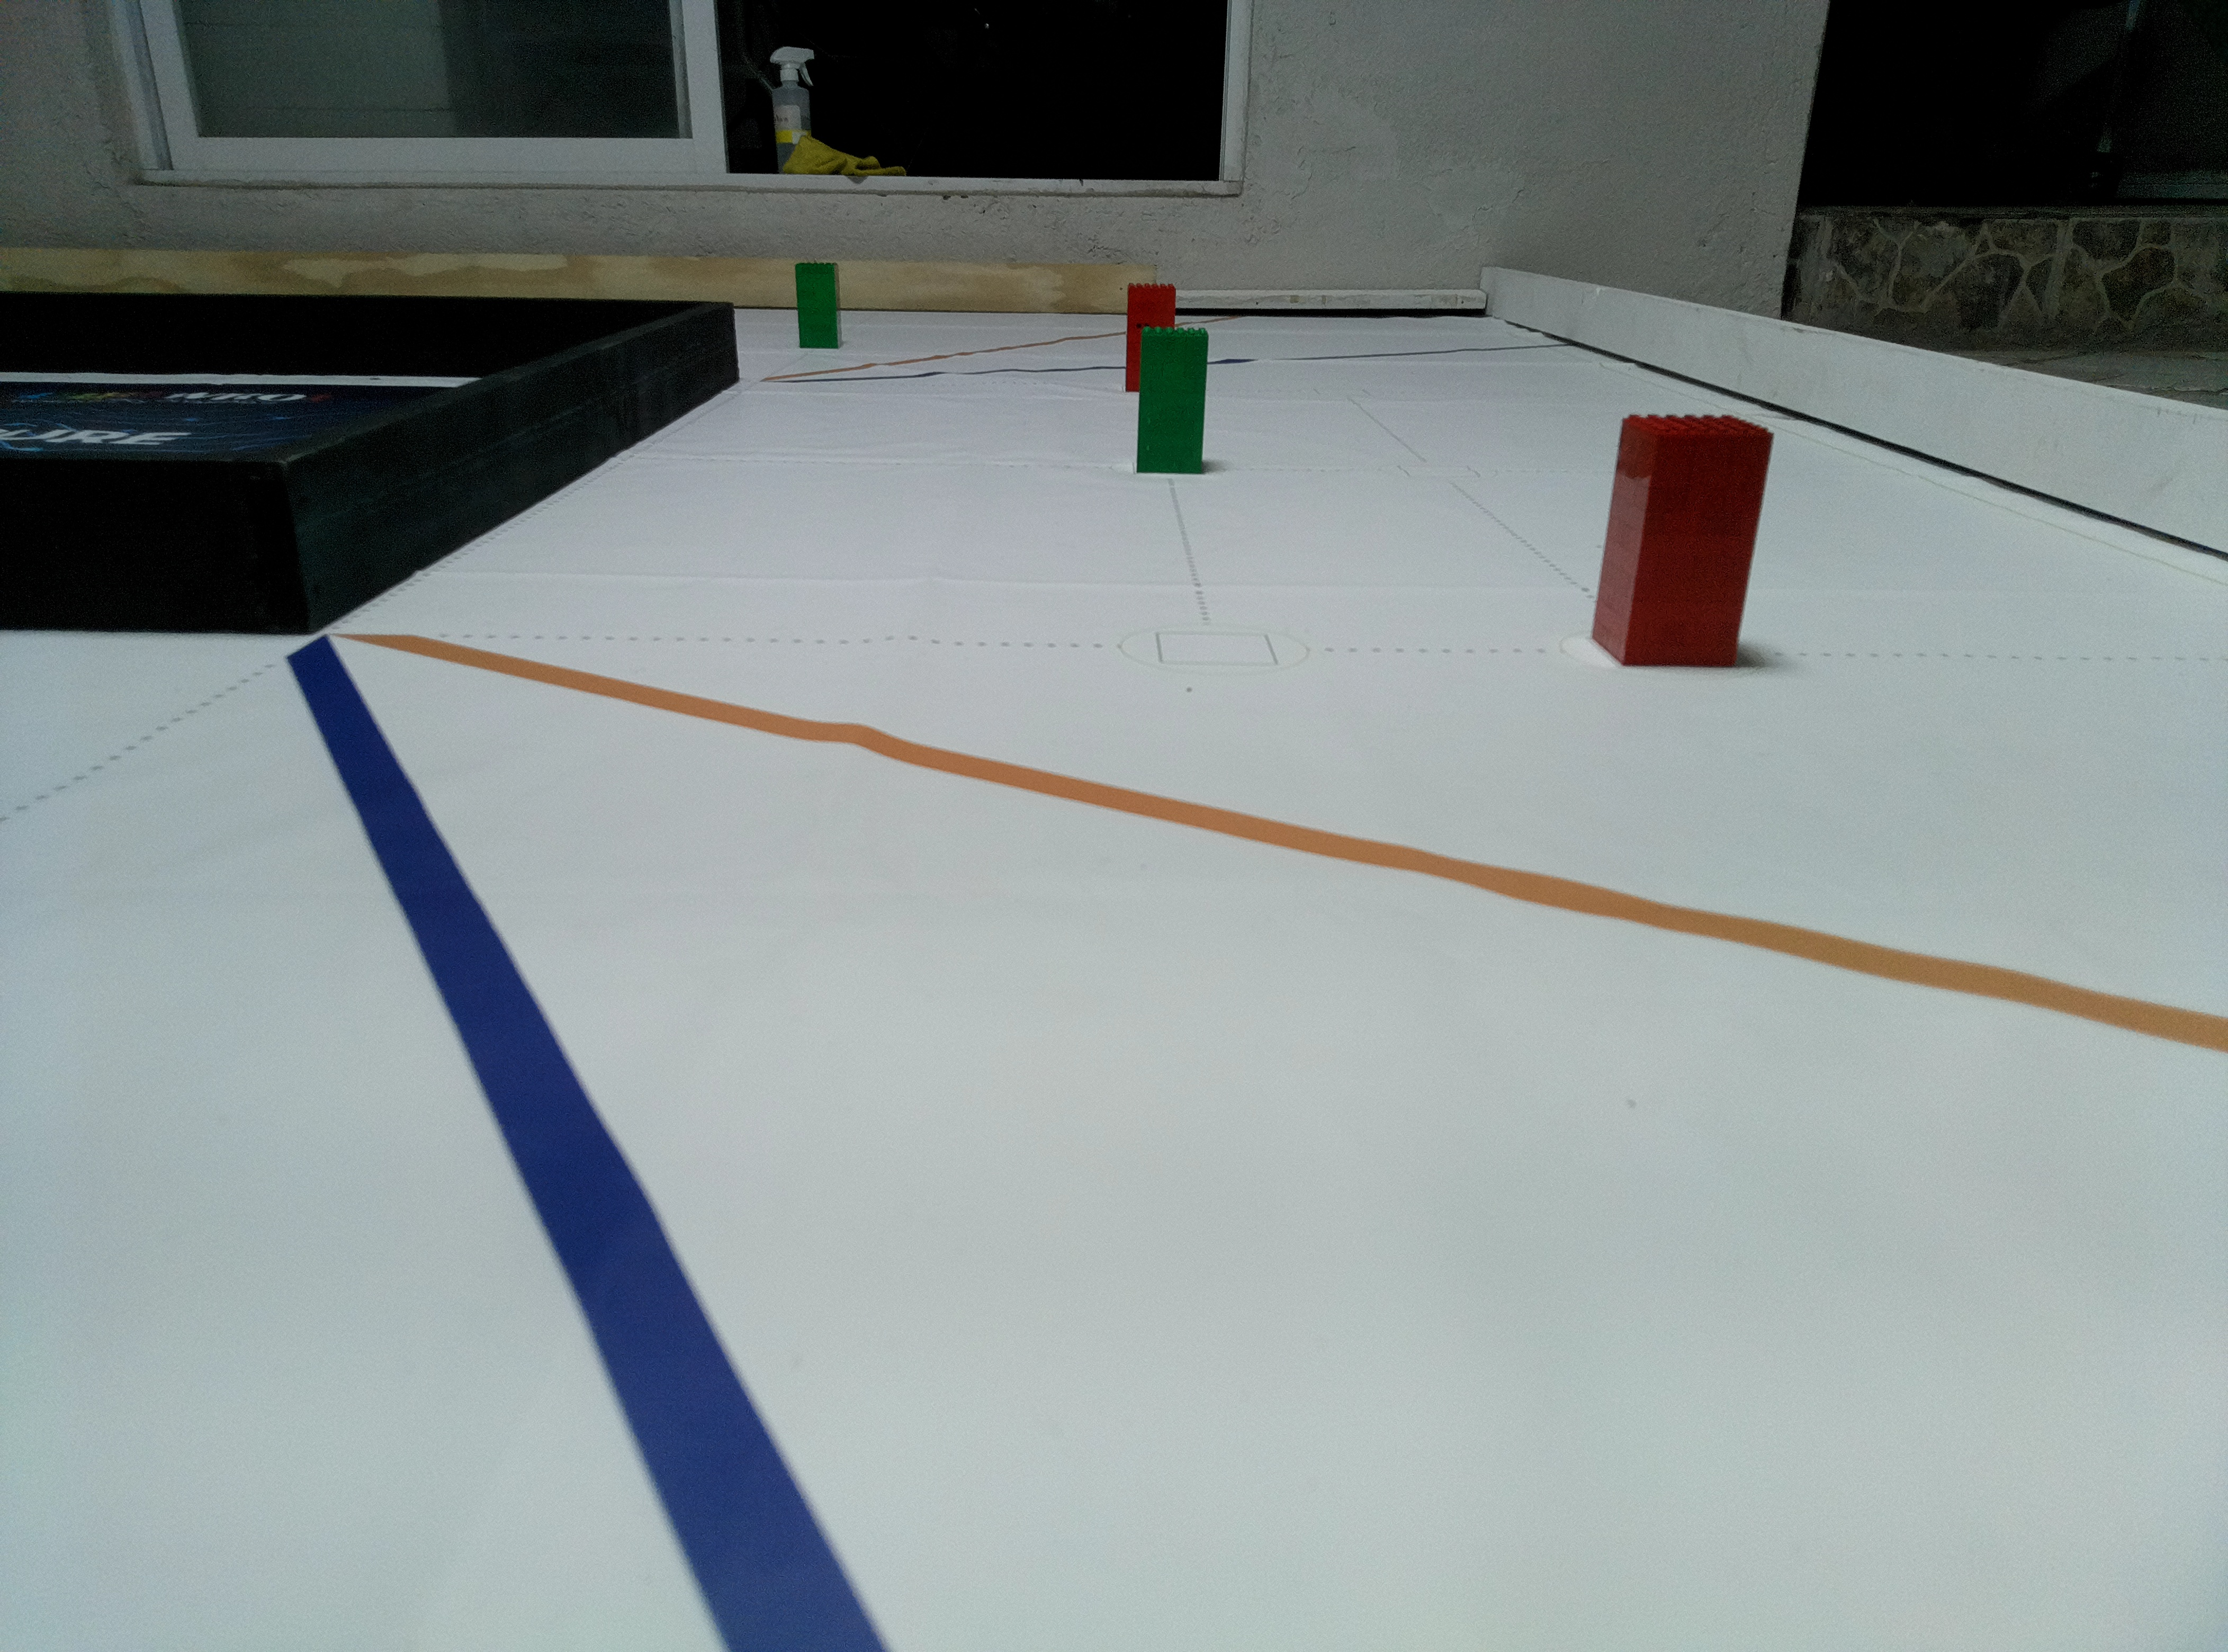greenbox: (1137, 324, 1213, 477), (793, 260, 845, 349)
redbox: (1589, 416, 1775, 666), (1128, 283, 1176, 394)
